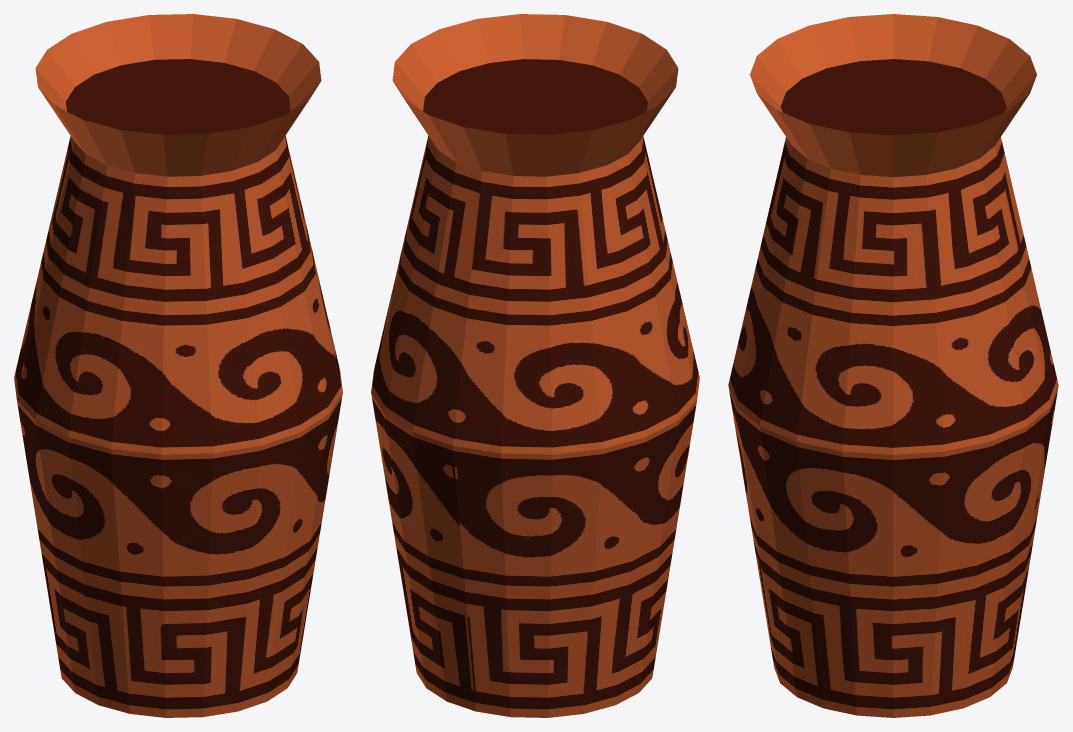
The model's file is Vase.fbx.
3 views of the same model, side by side, from view 1: azimuth 30°, elevation 25°; view 2: azimuth 150°, elevation 25°; view 3: azimuth 270°, elevation 25° (orthographic).
Parts seen in each view (by area): view 1: Цилиндр; view 2: Цилиндр; view 3: Цилиндр.
Boxes of the visible parts, x1,y1,x2,y2 form: Цилиндр: [14, 14, 342, 717]; Цилиндр: [371, 14, 699, 717]; Цилиндр: [728, 14, 1058, 717].
Size of the model in its own units: 200 by 396 by 200.
